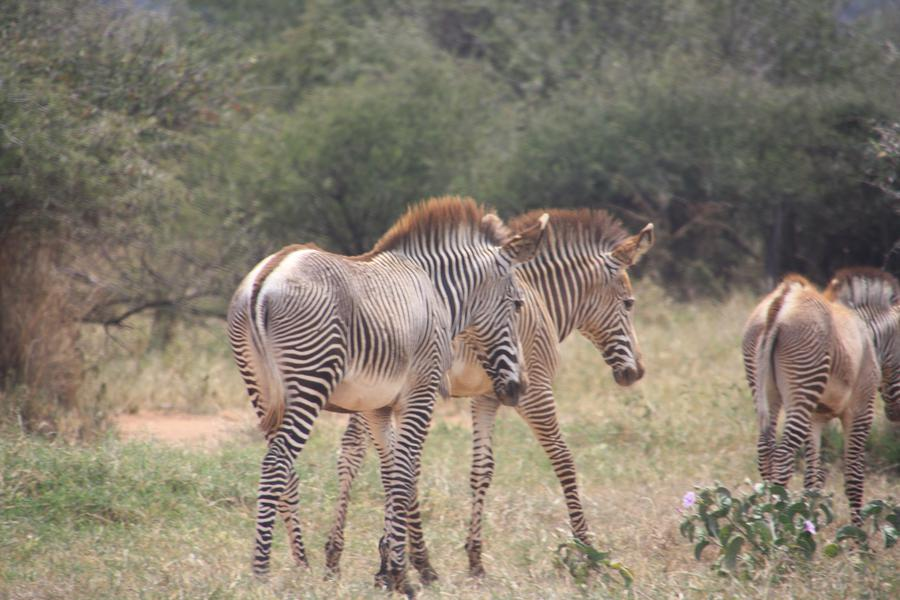zebra_grevys: (235, 232, 447, 395)
